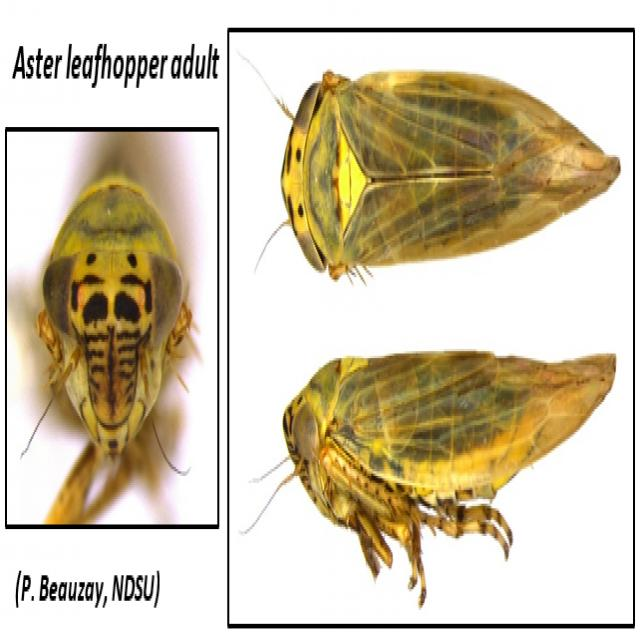Yechan: (270, 328, 625, 582), (268, 72, 624, 260)
